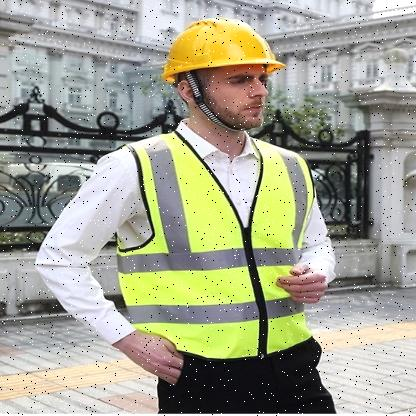capacete: (158, 15, 286, 134)
colete_refletivo: (36, 123, 342, 343)
